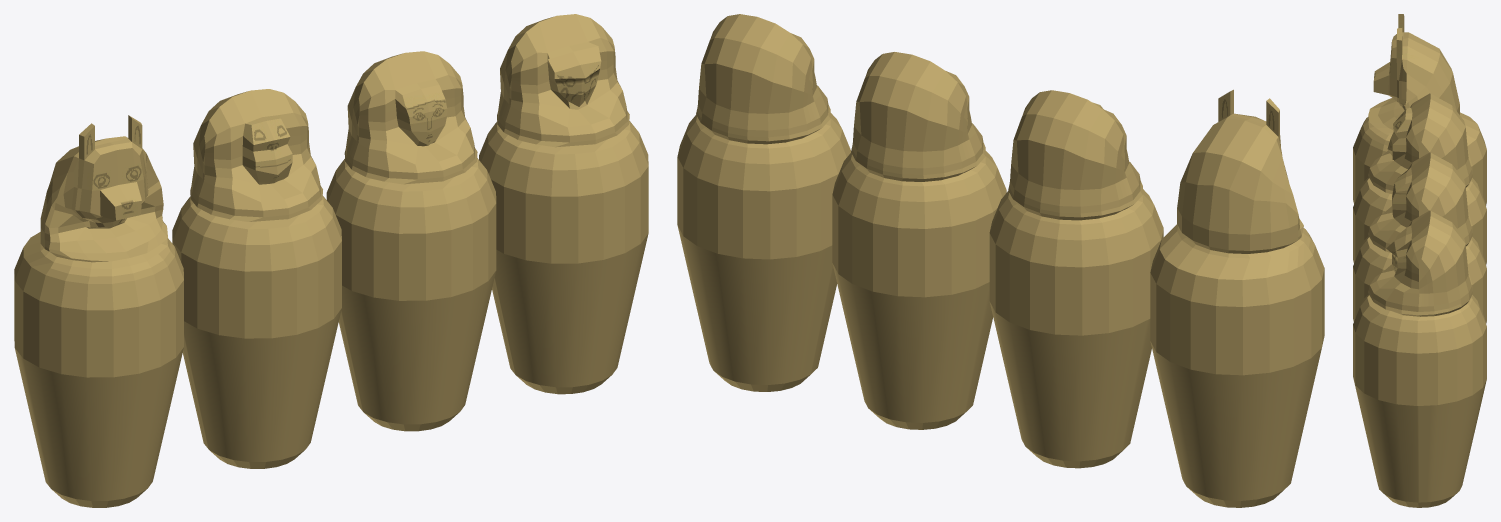
File: CanopicJars.FBX
3 views of the same model, side by side, from view 1: azimuth 30°, elevation 25°; view 2: azimuth 150°, elevation 25°; view 3: azimuth 270°, elevation 25° (orthographic). The views are drawn at different scales.
Parts seen in each view (by area): view 1: Human1; view 2: Human1; view 3: Human1.
Part boxes in pixels (x1,y1,x2,y2): Human1: [14, 14, 648, 507]; Human1: [677, 14, 1324, 507]; Human1: [1353, 14, 1486, 507].
Bounding box in the file's own units: 0.9325 × 0.5511 × 0.2258.
1 material, 1 textured.
